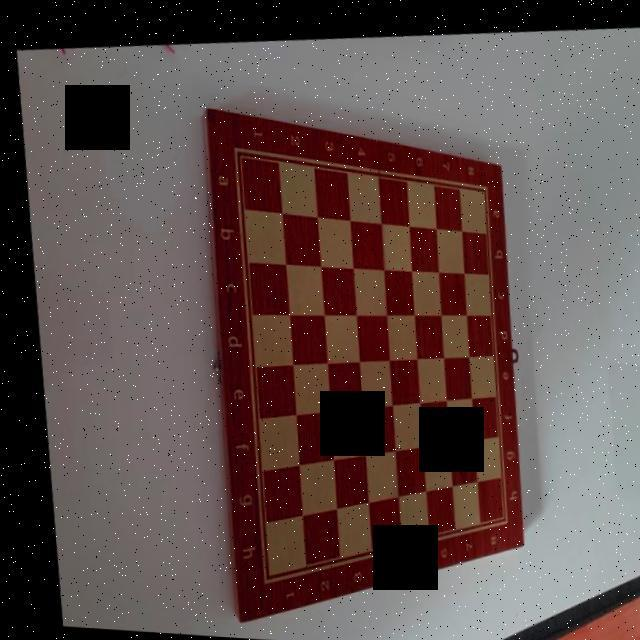chess-table-corners: (241, 550, 264, 582), (482, 500, 502, 526), (471, 170, 488, 198), (225, 130, 243, 156)
